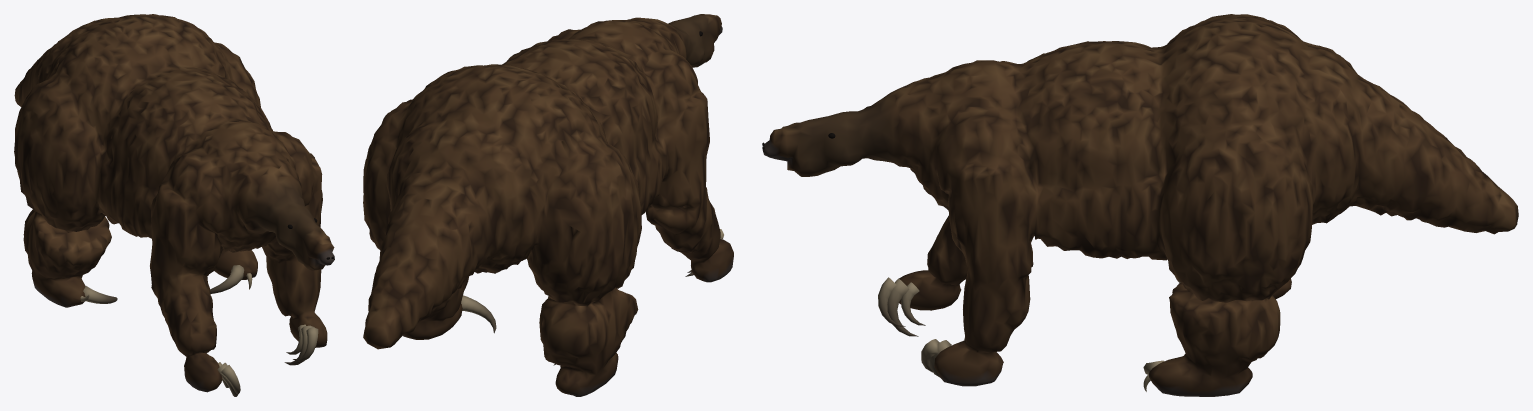
Rendered from MegatheriumAmericanum.fbx.
3 renders of one model, left to right at view 1: azimuth 30°, elevation 25°; view 2: azimuth 150°, elevation 25°; view 3: azimuth 270°, elevation 25°, orthographic. The views are drawn at different scales.
Parts seen in each view (by area): view 1: MegatheriumAmericanum; view 2: MegatheriumAmericanum; view 3: MegatheriumAmericanum.
Boxes of the visible parts, x1,y1,x2,y2 form: MegatheriumAmericanum: (14,14,334,396); MegatheriumAmericanum: (363,14,733,396); MegatheriumAmericanum: (762,14,1518,396).
Size of the model in its own units: 0.8969 by 1.02 by 2.12.
